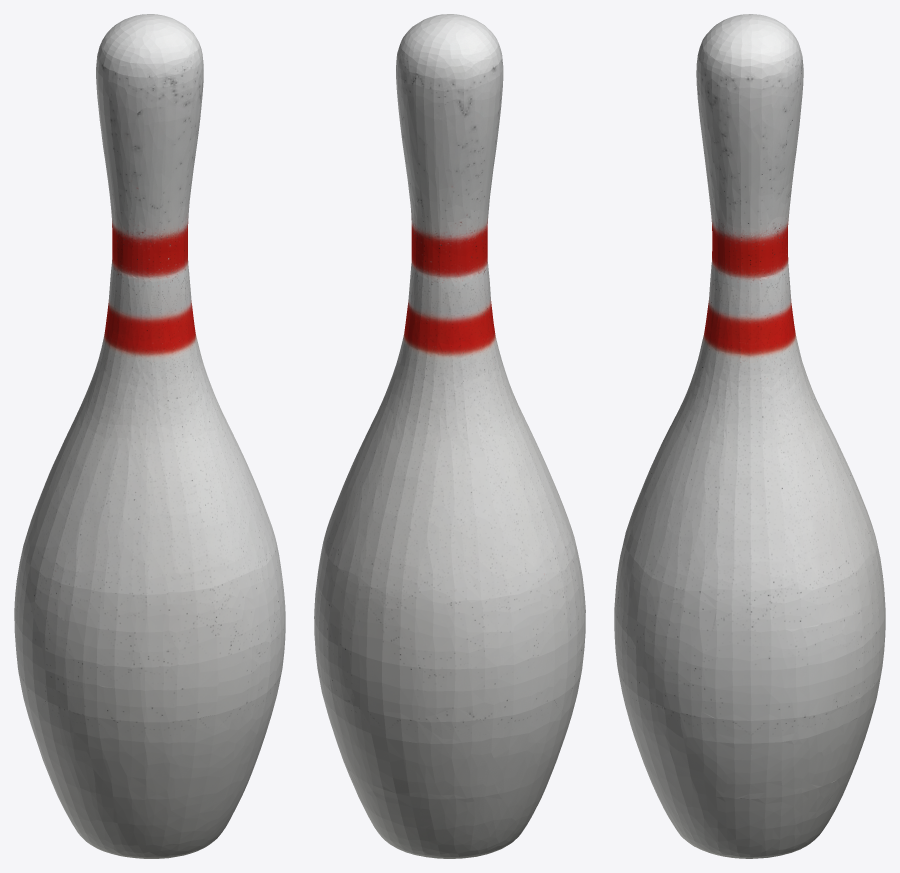
File: bowling pin.glb
The picture shows the model from 3 angles, left to right: view 1: azimuth 30°, elevation 25°; view 2: azimuth 150°, elevation 25°; view 3: azimuth 270°, elevation 25°; orthographic projection.
Parts seen in each view (by area): view 1: world; view 2: world; view 3: world.
Part boxes in pixels (box(x1,y1,x2,y2)): world: box(14, 14, 285, 858); world: box(314, 14, 585, 858); world: box(614, 14, 885, 858).
Bounding box in the file's own units: 0.3036 × 1 × 0.3035.
1 material, 1 textured.
